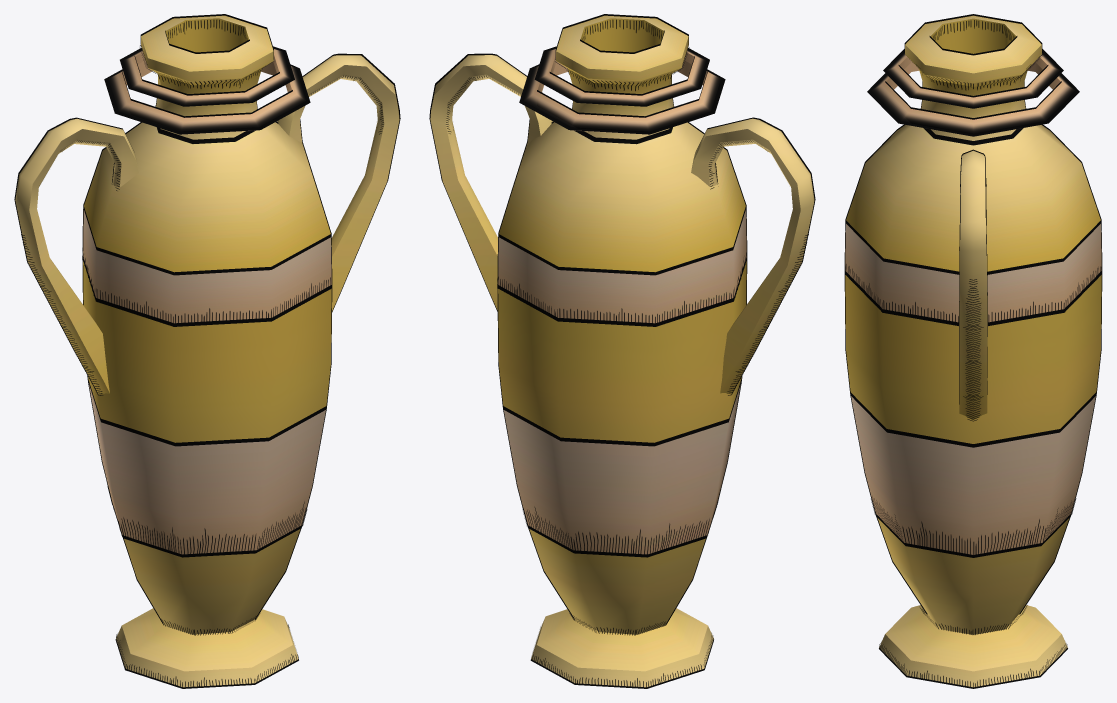
Rendered from vase-large.glb.
The picture shows the model from 3 angles, left to right: view 1: azimuth 30°, elevation 25°; view 2: azimuth 150°, elevation 25°; view 3: azimuth 270°, elevation 25°; orthographic projection.
Parts seen in each view (by area): view 1: Vase_Large; view 2: Vase_Large; view 3: Vase_Large.
Part boxes in pixels (bbox=[...]): Vase_Large: bbox=[14, 14, 400, 688]; Vase_Large: bbox=[429, 14, 815, 688]; Vase_Large: bbox=[844, 14, 1102, 688].
Bounding box in the file's own units: 1.4 × 2.15 × 0.8207.
3 materials, 2 textured.
